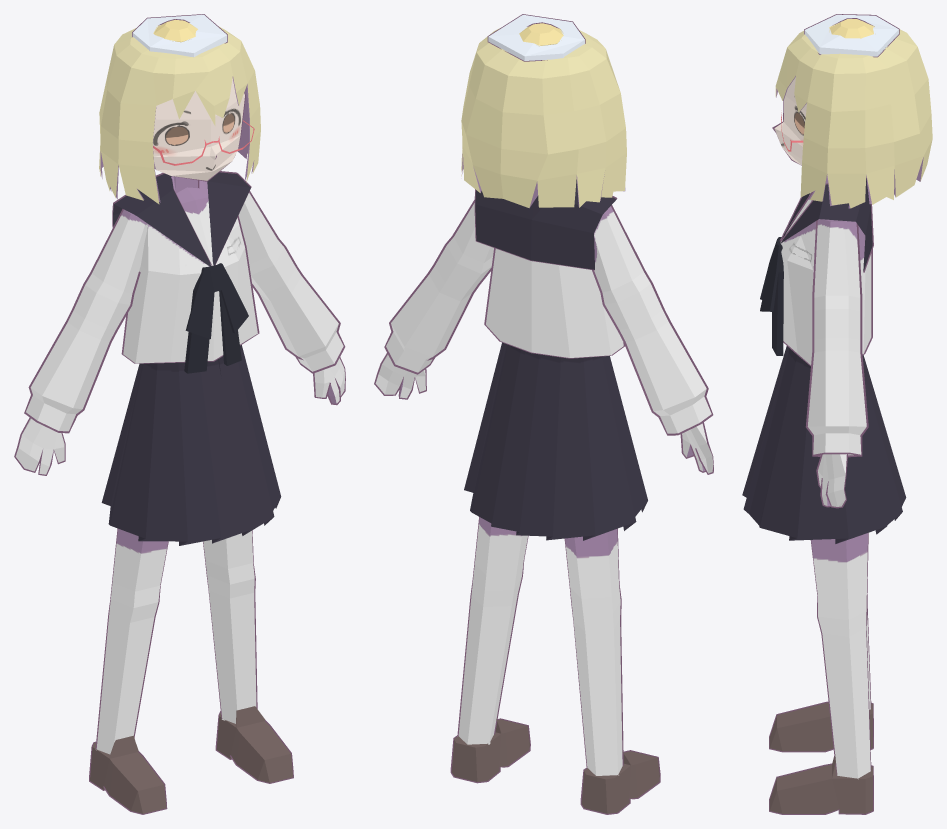
The model's file is majime5.glb.
3 renders of one model, left to right at view 1: azimuth 30°, elevation 25°; view 2: azimuth 150°, elevation 25°; view 3: azimuth 270°, elevation 25°, orthographic. The views are drawn at different scales.
Visible parts, largest first — view 1: Skirt, Legs, Arms, Head.002, Chest, Head.001, Necktie, Ribbon, Hands, Egg, Head.003; view 2: Legs, Skirt, Head.002, Arms, Chest, Necktie, Egg, Hands; view 3: Head.002, Legs, Skirt, Arms, Chest, Egg, Necktie, Ribbon, Head.001, Hands.
Part boxes in pixels (bbox=[...]): Skirt: bbox=[101, 345, 281, 545]; Legs: bbox=[89, 528, 293, 814]; Arms: bbox=[24, 191, 345, 433]; Head.002: bbox=[99, 26, 260, 204]; Chest: bbox=[121, 176, 259, 363]; Head.001: bbox=[153, 78, 245, 181]; Necktie: bbox=[112, 171, 251, 266]; Ribbon: bbox=[184, 263, 248, 373]; Hands: bbox=[14, 357, 345, 475]; Egg: bbox=[132, 14, 227, 57]; Head.003: bbox=[100, 76, 254, 202]; Legs: bbox=[450, 517, 660, 814]; Skirt: bbox=[464, 342, 647, 540]; Head.002: bbox=[461, 28, 626, 207]; Arms: bbox=[384, 200, 713, 435]; Chest: bbox=[484, 248, 624, 358]; Necktie: bbox=[474, 179, 617, 270]; Egg: bbox=[487, 14, 585, 61]; Hands: bbox=[374, 353, 713, 474]; Head.002: bbox=[775, 29, 932, 208]; Legs: bbox=[769, 533, 873, 814]; Skirt: bbox=[742, 346, 906, 543]; Arms: bbox=[805, 219, 868, 457]; Chest: bbox=[779, 175, 872, 366]; Egg: bbox=[804, 14, 899, 57]; Necktie: bbox=[780, 177, 873, 272]; Ribbon: bbox=[760, 237, 783, 355]; Head.001: bbox=[772, 77, 806, 165]; Hands: bbox=[816, 454, 847, 508].
Size of the model in its own units: 4.71 by 10.08 by 2.32.
Materials: 4 (3 with a texture image).
